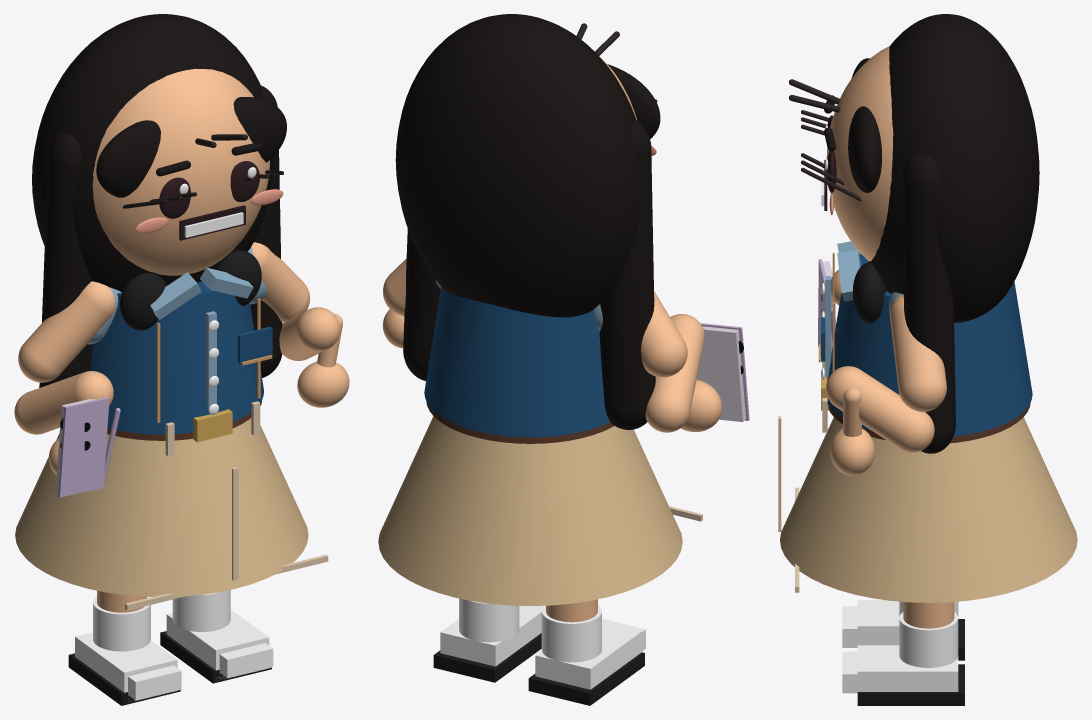
File: mangham.glb
3 renders of one model, left to right at view 1: azimuth 30°, elevation 25°; view 2: azimuth 150°, elevation 25°; view 3: azimuth 270°, elevation 25°, orthographic. The views are drawn at different scales.
Parts seen in each view (by area): view 1: beige-a-line-skirt, hair-back, head, denim-shirt, left-long-hair, left-upper-arm, phone-edge, hair-left-front, left-forearm, left-shoe, shoe-toe-cap (×2), right-shoe (+24 smaller); view 2: hair-back, beige-a-line-skirt, denim-shirt, left-long-hair, right-long-hair, left-forearm, left-shoe, pale-lavender-samsung-galaxy-s23-ultra, right-shoe, left-sock, left-upper-arm, right-sock (+8 smaller); view 3: beige-a-line-skirt, hair-back, denim-shirt, right-long-hair, head, right-forearm, right-upper-arm, right-shoe, right-sock, hair-right-front, left-shoe, right-shoe-sole (+9 smaller).
Part boxes in pixels (<box>): beige-a-line-skirt: <box>15,418,308,596</box>; hair-back: <box>32,14,273,291</box>; head: <box>92,68,269,275</box>; denim-shirt: <box>90,281,263,434</box>; left-long-hair: <box>39,133,92,387</box>; left-upper-arm: <box>18,281,115,382</box>; phone-edge: <box>58,397,109,497</box>; hair-left-front: <box>96,120,160,197</box>; left-forearm: <box>14,371,113,434</box>; left-shoe: <box>75,632,177,700</box>; shoe-toe-cap (×2): <box>128,643,273,700</box>; right-shoe: <box>166,609,269,680</box>; hair-back: <box>395,14,642,317</box>; beige-a-line-skirt: <box>378,416,682,605</box>; denim-shirt: <box>424,286,610,437</box>; left-long-hair: <box>599,119,655,429</box>; right-long-hair: <box>403,228,440,380</box>; left-forearm: <box>645,314,704,432</box>; left-shoe: <box>535,621,641,689</box>; pale-lavender-samsung-galaxy-s23-ultra: <box>696,326,745,421</box>; right-shoe: <box>440,605,542,666</box>; left-sock: <box>541,605,601,662</box>; left-upper-arm: <box>641,291,687,377</box>; right-sock: <box>459,598,519,642</box>; beige-a-line-skirt: <box>780,417,1077,602</box>; hair-back: <box>868,14,1039,322</box>; denim-shirt: <box>827,254,1032,436</box>; right-long-hair: <box>902,154,955,453</box>; head: <box>826,46,893,261</box>; right-forearm: <box>826,366,934,452</box>; right-upper-arm: <box>890,294,946,411</box>; right-shoe: <box>857,645,958,691</box>; right-sock: <box>899,612,958,667</box>; hair-right-front: <box>848,106,881,192</box>; left-shoe: <box>857,600,958,645</box>; right-shoe-sole: <box>857,664,964,705</box>.
Size of the model in its own units: 2.37 by 4.73 by 1.99.
